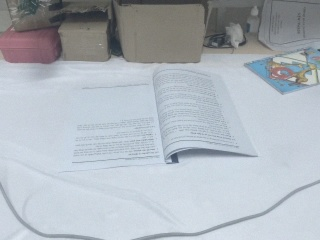book: (243, 47, 320, 97)
box: (112, 1, 210, 66), (27, 3, 113, 64)
